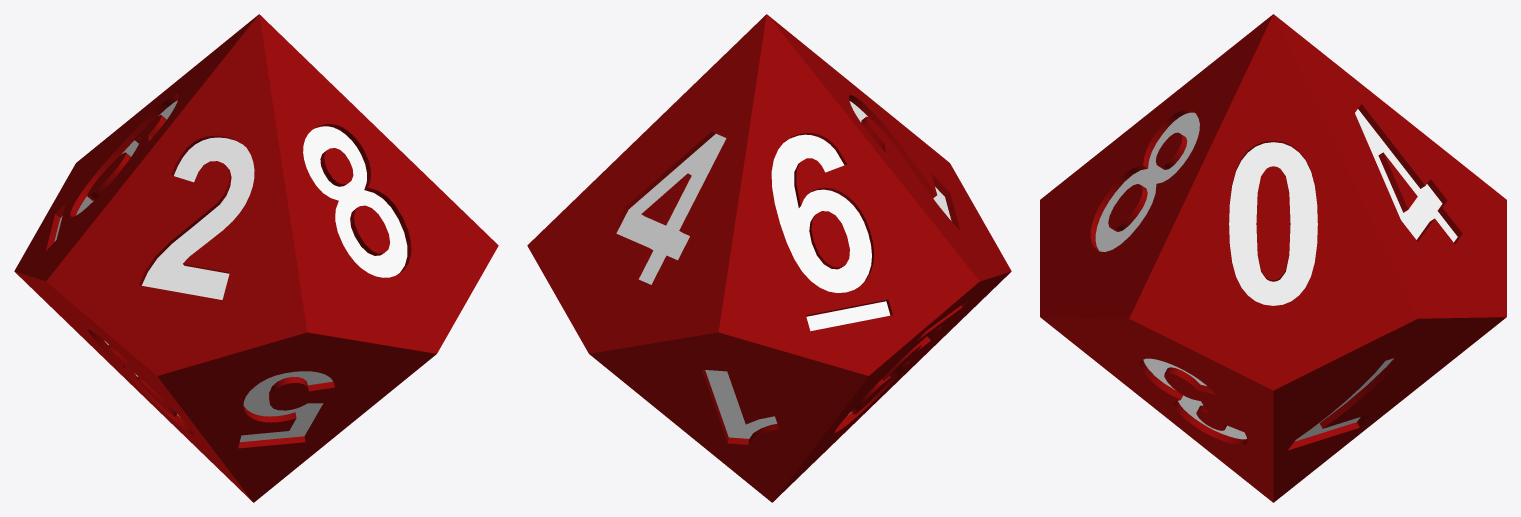
Rendered from Boardgame_Dice_D10_Red_01.fbx.
The picture shows the model from 3 angles, left to right: view 1: azimuth 30°, elevation 25°; view 2: azimuth 150°, elevation 25°; view 3: azimuth 270°, elevation 25°; orthographic projection.
Parts seen in each view (by area): view 1: Boardgame_Dice_D10_Red_01; view 2: Boardgame_Dice_D10_Red_01; view 3: Boardgame_Dice_D10_Red_01.
Part boxes in pixels (box(x1,y1,x2,y2)): Boardgame_Dice_D10_Red_01: box(14, 14, 498, 502); Boardgame_Dice_D10_Red_01: box(527, 14, 1011, 502); Boardgame_Dice_D10_Red_01: box(1040, 14, 1506, 502).
Bounding box in the file's own units: 60.69 × 67.2 × 57.81.
